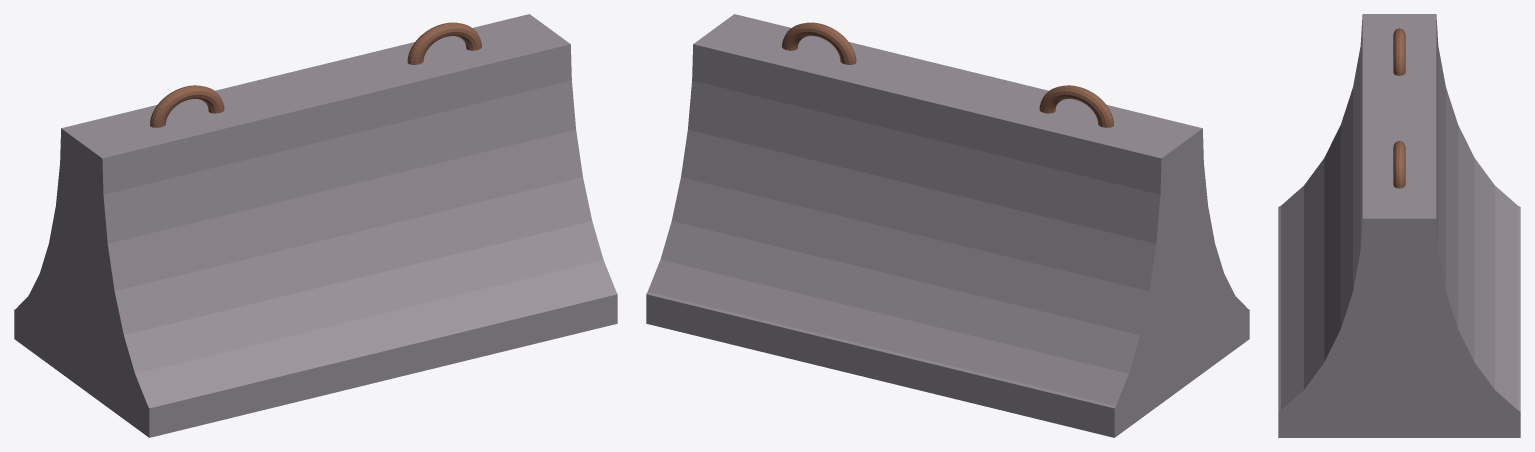
Rendered from concreteBarrier.obj.
3 views of the same model, side by side, from view 1: azimuth 30°, elevation 25°; view 2: azimuth 150°, elevation 25°; view 3: azimuth 270°, elevation 25° (orthographic). The views are drawn at different scales.
Parts seen in each view (by area): view 1: 立方体.001; view 2: 立方体.001; view 3: 立方体.001.
Part boxes in pixels (box(x1,y1,x2,y2)): 立方体.001: box(14, 14, 617, 437); 立方体.001: box(646, 14, 1249, 437); 立方体.001: box(1278, 14, 1520, 437).
Size of the model in its own units: 4 by 2.25 by 2.
1 material, 1 textured.
